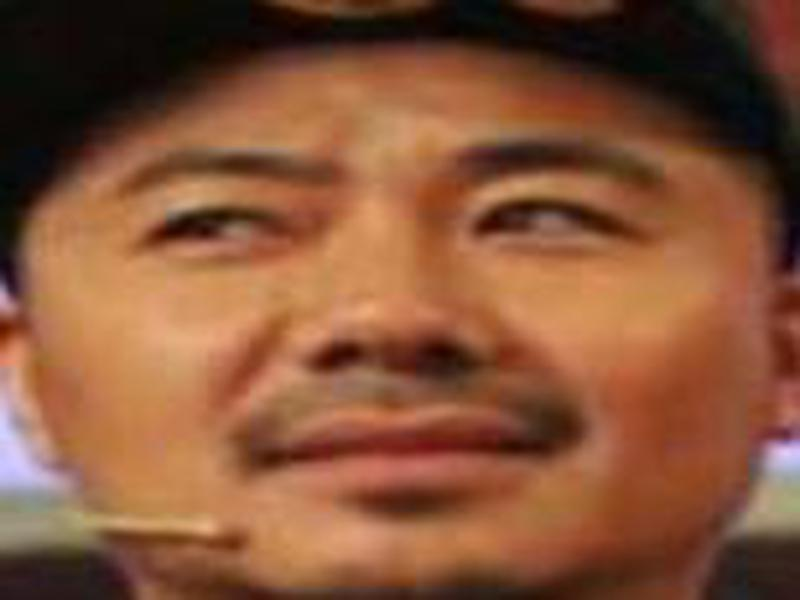without_mask: (23, 72, 765, 593)
